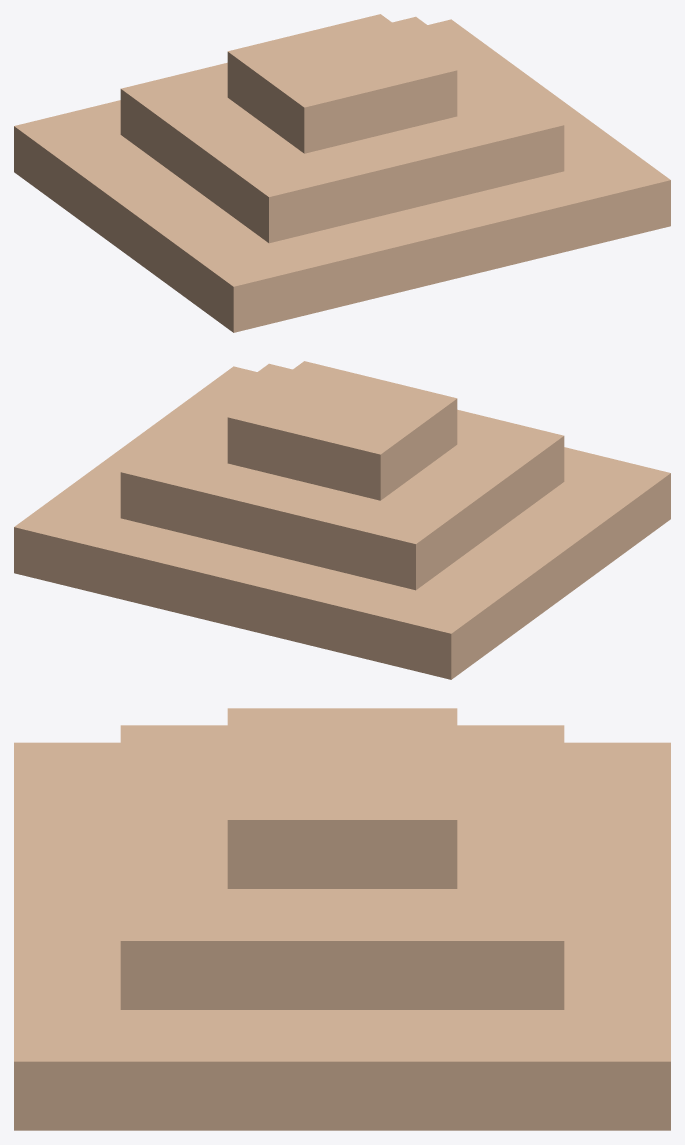
File: place-angkor-wat.glb
3 views of the same model, one above another, from view 1: azimuth 30°, elevation 25°; view 2: azimuth 150°, elevation 25°; view 3: azimuth 270°, elevation 25° (orthographic). The views are drawn at different scales.
Visible parts, largest first — view 1: place-angkor-wat; view 2: place-angkor-wat; view 3: place-angkor-wat.
Part boxes in pixels (x1,y1,x2,y2): place-angkor-wat: (14, 14, 670, 332); place-angkor-wat: (14, 361, 670, 679); place-angkor-wat: (14, 708, 670, 1130).
Size of the model in its own units: 215 by 65 by 187.
